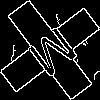M: (25, 25, 87, 87)
